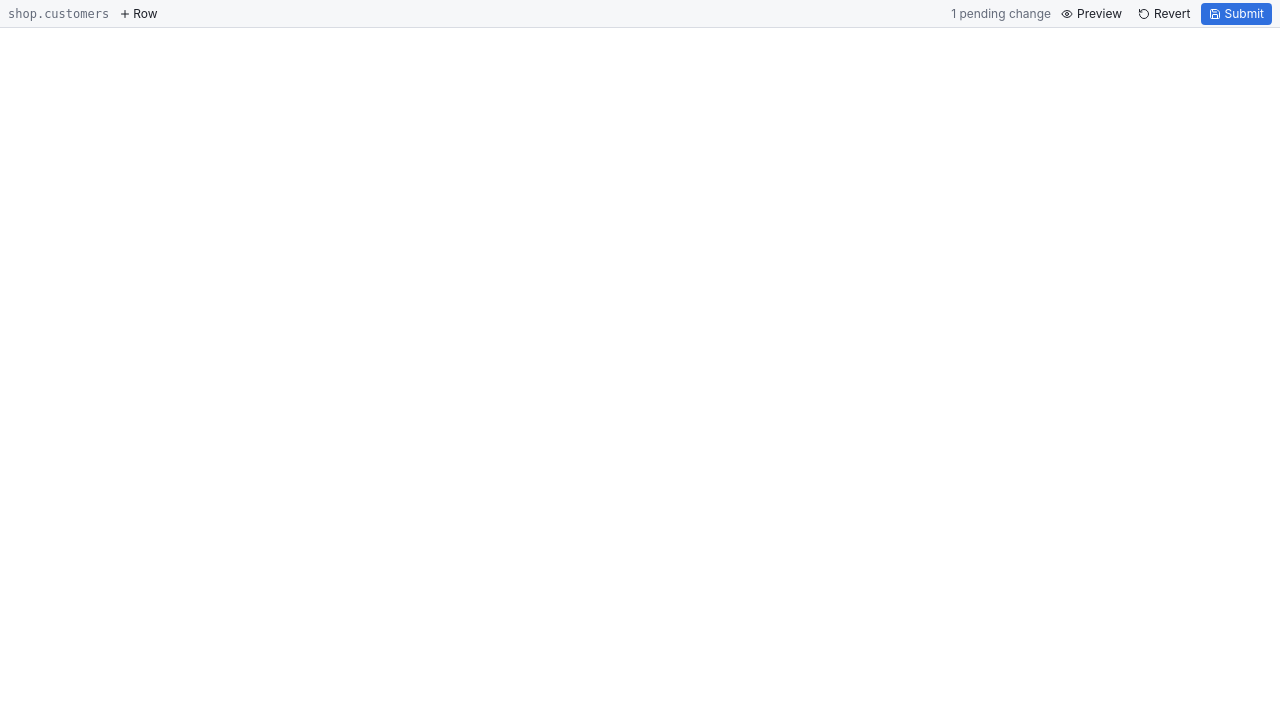
Test case: edit bar and submit › previews the exact statements and bound values
Expected: the text "1 pending change" is shown, x1=951 y1=4 x2=1051 y2=22
Click the button "Preview".
click(1092, 14)  # box x1=1055 y1=2 x2=1128 y2=24
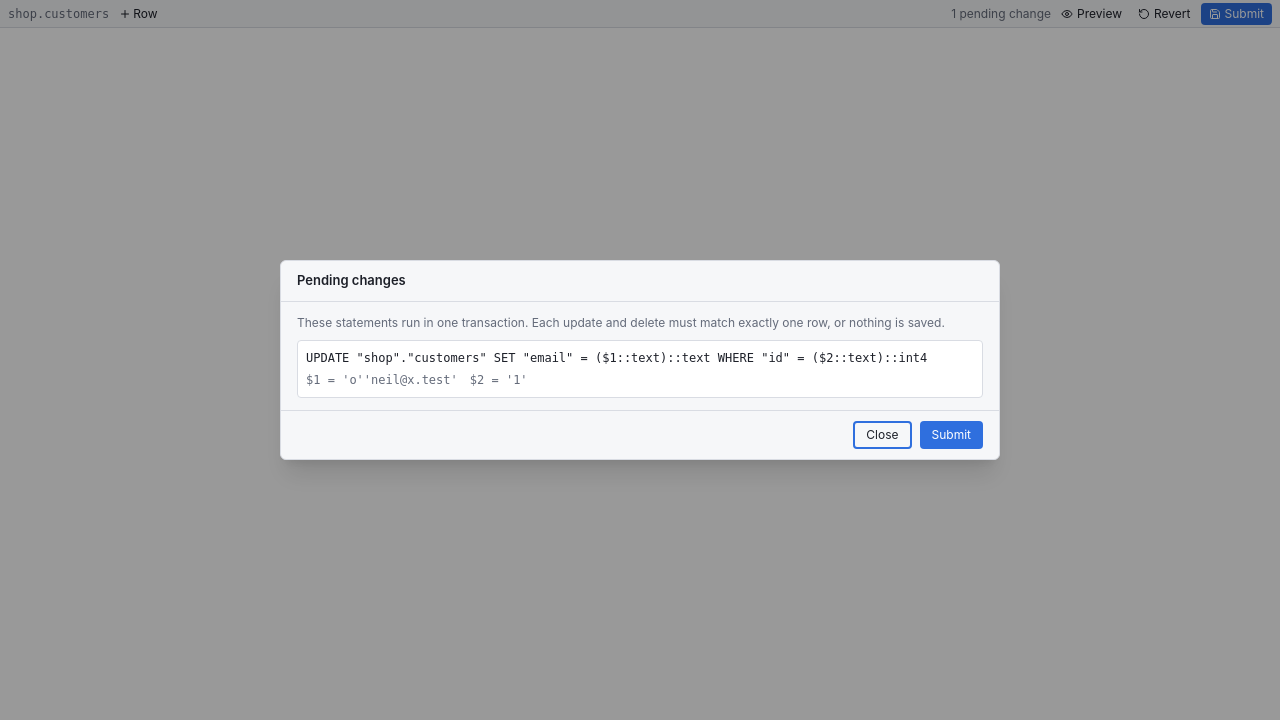
Now the list named "Statements" shows "UPDATE \"shop\".\"customers\" SET \"email\"", box x1=306 y1=351 x2=927 y2=365
Now the list named "Statements" shows "$1 = 'o''neil@x.test'", box x1=297 y1=340 x2=983 y2=398
Now the list named "Statements" shows "$2 = '1'", box x1=297 y1=340 x2=983 y2=398
